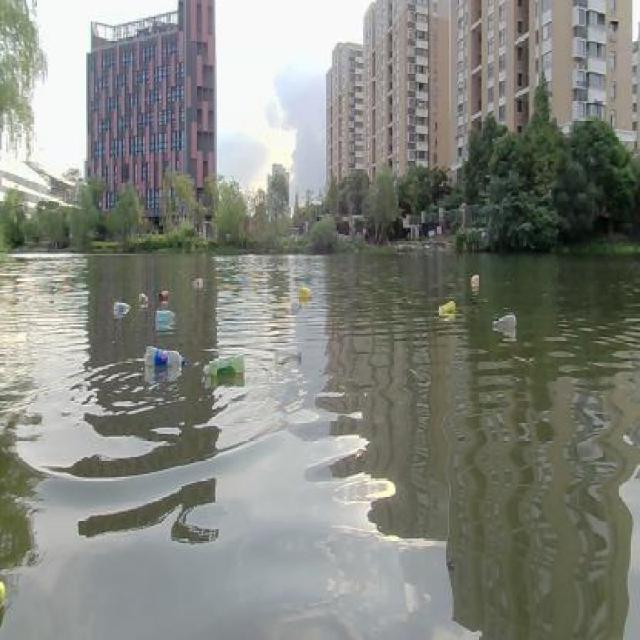Bottle: (196, 350, 248, 386), (134, 344, 190, 370), (148, 306, 178, 328)
Waste: (486, 312, 524, 334), (182, 270, 208, 294), (431, 300, 461, 320), (106, 299, 134, 319), (293, 284, 317, 306), (468, 267, 484, 291), (134, 288, 152, 306), (154, 286, 174, 302)
